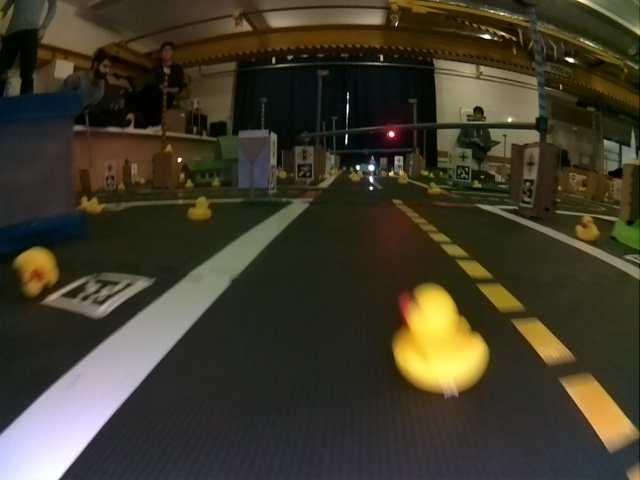Duckie: (392, 282, 486, 396), (14, 248, 55, 296), (575, 216, 599, 241), (191, 197, 212, 220), (87, 199, 104, 214), (427, 182, 440, 195), (78, 196, 89, 209), (398, 175, 407, 184), (212, 178, 222, 186), (185, 180, 194, 188), (351, 175, 361, 181)
Intersection sign: (523, 152, 537, 177), (457, 150, 470, 163)
QR code: (41, 274, 153, 317), (520, 179, 536, 207), (296, 163, 313, 178), (456, 165, 470, 180)
Signal sign: (297, 147, 313, 161)
